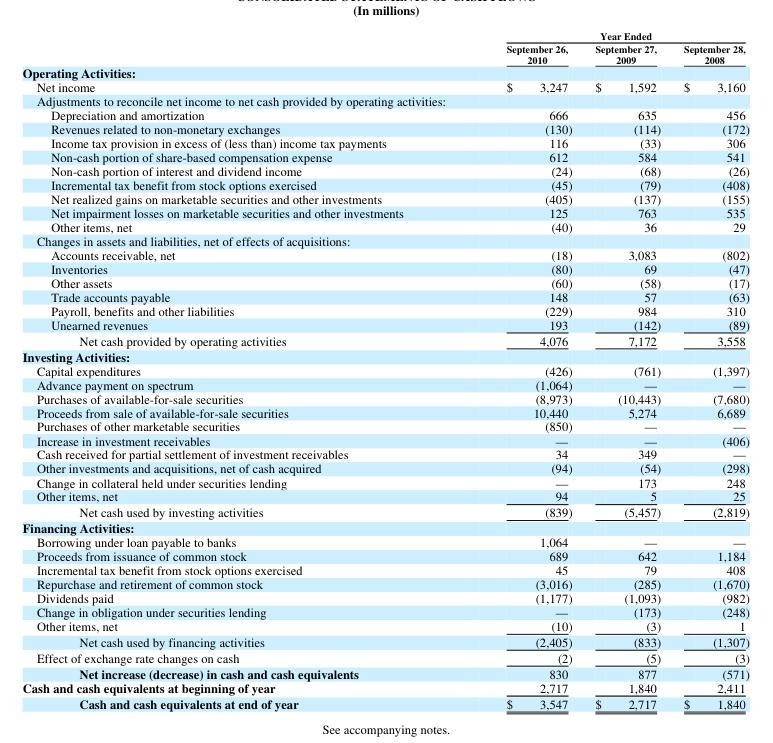table: (21, 28, 748, 712)
table column: (21, 28, 454, 712), (454, 28, 583, 712), (583, 28, 671, 712), (671, 28, 748, 712)
table column header: (21, 28, 748, 65)
table projected row header: (21, 347, 748, 363), (21, 519, 748, 534), (21, 65, 748, 79), (21, 93, 748, 107), (21, 233, 748, 246)
table row: (21, 41, 748, 65), (21, 695, 748, 712), (21, 331, 748, 347), (21, 347, 748, 363), (21, 503, 748, 519), (21, 633, 748, 649), (21, 649, 748, 665), (21, 316, 748, 331), (21, 488, 748, 503), (21, 519, 748, 534), (21, 618, 748, 633), (21, 665, 748, 680), (21, 680, 748, 695), (21, 65, 748, 79), (21, 79, 748, 93), (21, 93, 748, 107), (21, 107, 748, 121), (21, 121, 748, 135), (21, 135, 748, 149), (21, 149, 748, 163), (21, 163, 748, 177), (21, 177, 748, 191), (21, 191, 748, 205), (21, 205, 748, 219), (21, 219, 748, 233), (21, 246, 748, 260), (21, 260, 748, 274), (21, 274, 748, 288), (21, 288, 748, 302), (21, 302, 748, 316), (21, 376, 748, 390), (21, 390, 748, 404), (21, 404, 748, 418), (21, 418, 748, 432), (21, 432, 748, 446), (21, 446, 748, 460), (21, 460, 748, 474), (21, 474, 748, 488), (21, 534, 748, 548), (21, 548, 748, 562), (21, 562, 748, 576), (21, 576, 748, 590), (21, 590, 748, 604), (21, 604, 748, 618), (21, 28, 748, 41), (21, 233, 748, 246), (21, 363, 748, 376)
table spanning cell: (454, 28, 748, 41)
